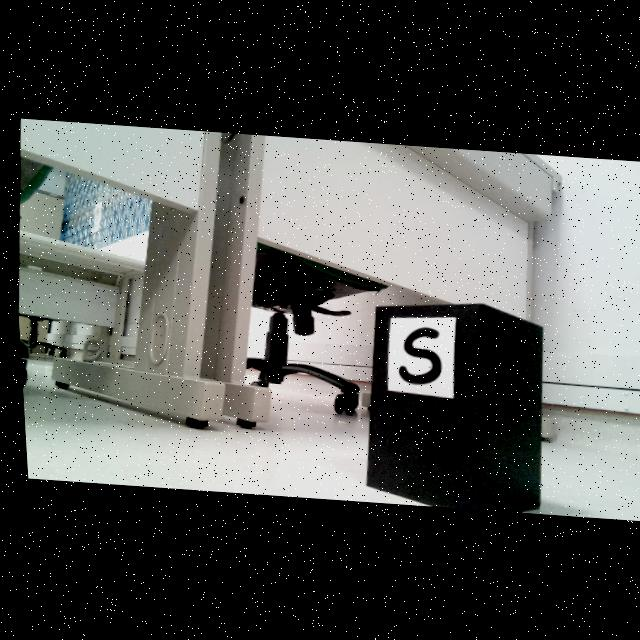S: (393, 327, 437, 384)
